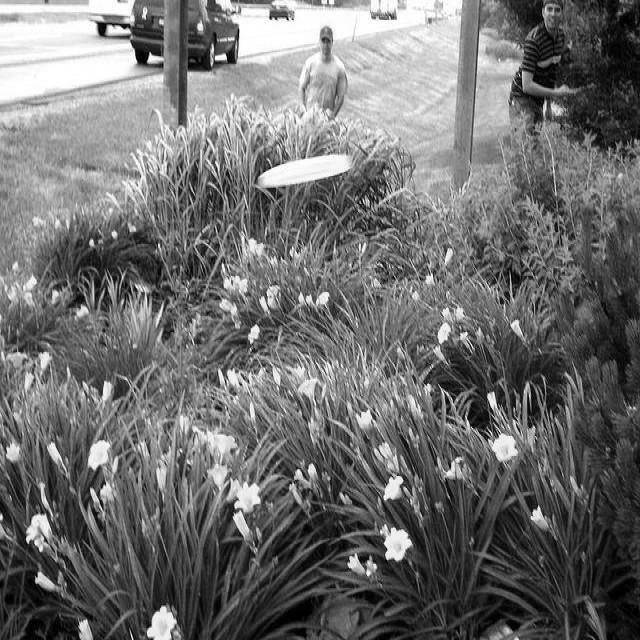vehicle: (128, 0, 245, 70), (85, 3, 135, 39), (370, 0, 397, 20), (269, 2, 295, 22)
